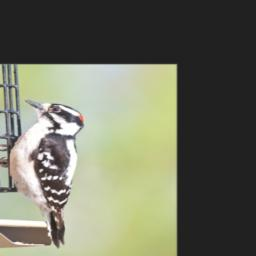Woodpecker: (0, 99, 87, 251)
